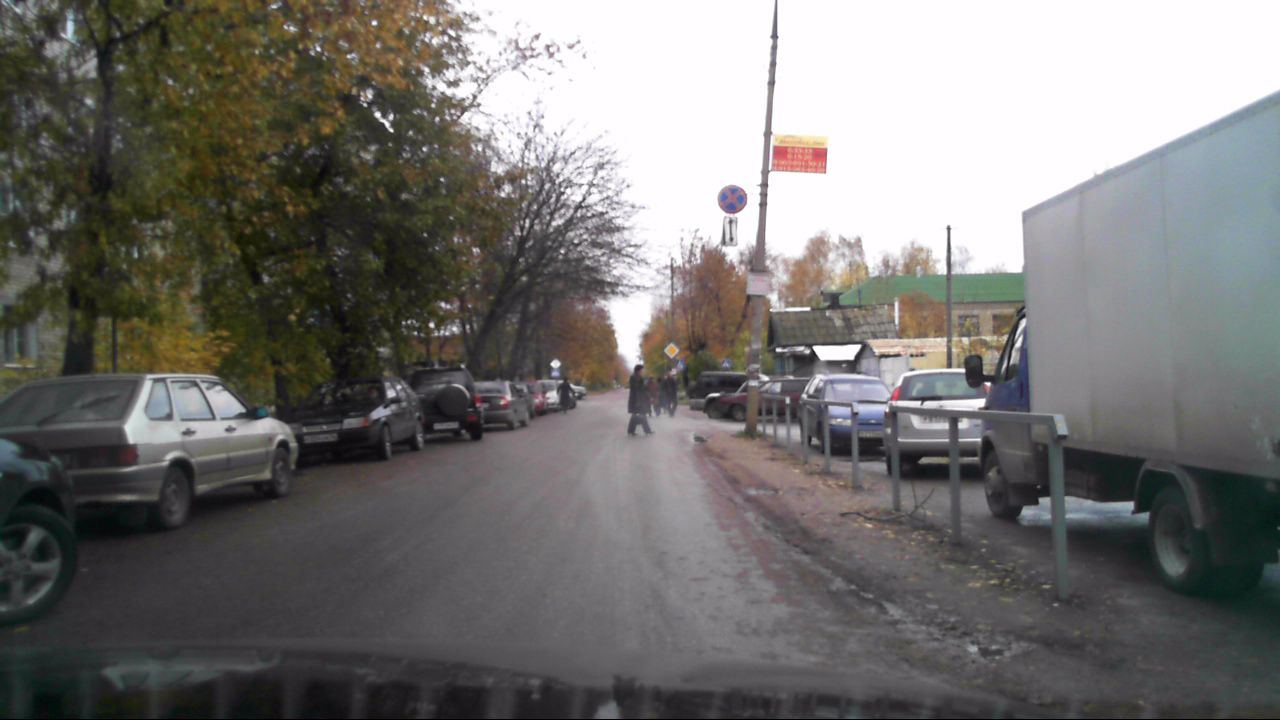No Parking: (717, 184, 747, 214)
